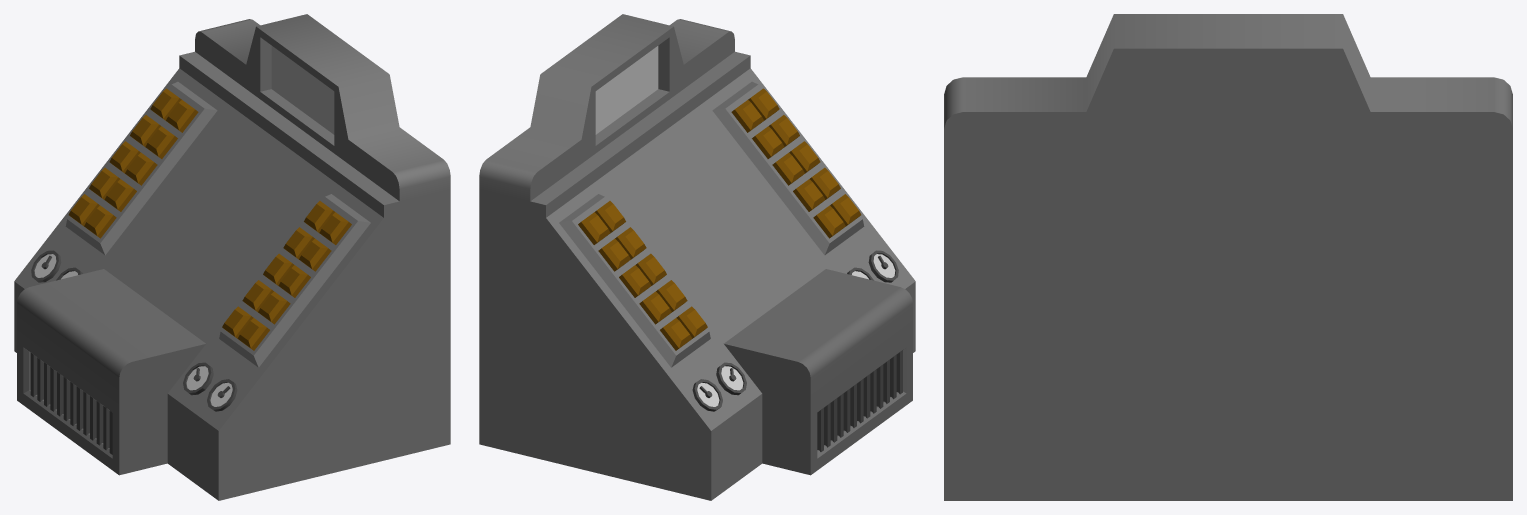
Rendered from SM_PC_Main_Stand_01.fbx.
The picture shows the model from 3 angles, left to right: view 1: azimuth 30°, elevation 25°; view 2: azimuth 150°, elevation 25°; view 3: azimuth 270°, elevation 25°; orthographic projection. The views are drawn at different scales.
Visible parts, largest first — view 1: SM_PC_Main_Stand_01; view 2: SM_PC_Main_Stand_01; view 3: SM_PC_Main_Stand_01.
Boxes of the visible parts, x1,y1,x2,y2 form: SM_PC_Main_Stand_01: (14,14,450,500); SM_PC_Main_Stand_01: (479,14,915,500); SM_PC_Main_Stand_01: (944,14,1512,500).
Size of the model in its own units: 204 by 227 by 258.
